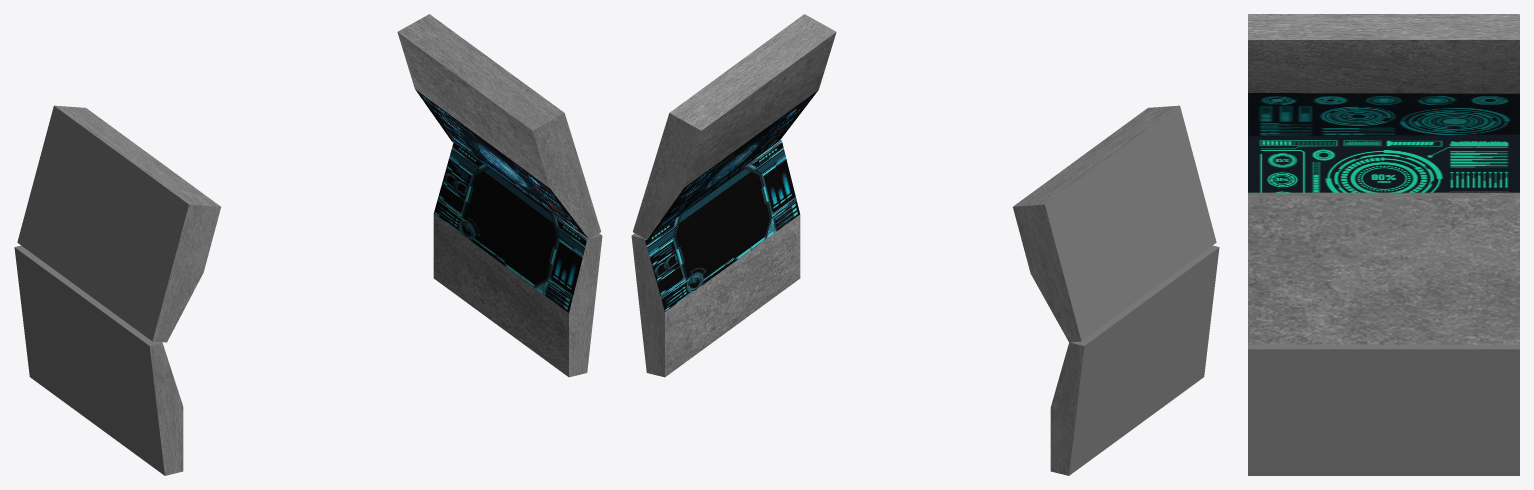
The model's file is modulosCabina.obj.
3 renders of one model, left to right at view 1: azimuth 30°, elevation 25°; view 2: azimuth 150°, elevation 25°; view 3: azimuth 270°, elevation 25°, orthographic.
Parts seen in each view (by area): view 1: pCube9, pCube8, tableroind:pCube8, pCube10; view 2: pCube9, pCube8, tableroind:pCube8, pCube10; view 3: pCube10, pCube8, pCube9, tableroind:pCube8.
Part boxes in pixels (x1,y1,x2,y2): pCube9: (17,105,220,342); pCube8: (433,142,602,377); tableroind:pCube8: (14,245,183,475); pCube10: (397,14,600,238); pCube9: (1013,105,1216,342); pCube8: (631,140,800,377); tableroind:pCube8: (1050,245,1219,475); pCube10: (633,14,836,239); pCube10: (1248,192,1519,344); pCube8: (1248,344,1519,475); pCube9: (1248,14,1519,136); tableroind:pCube8: (1248,134,1519,192).
Size of the model in its own units: 1.24 by 0.6937 by 0.6402.
8 materials, 7 textured.
